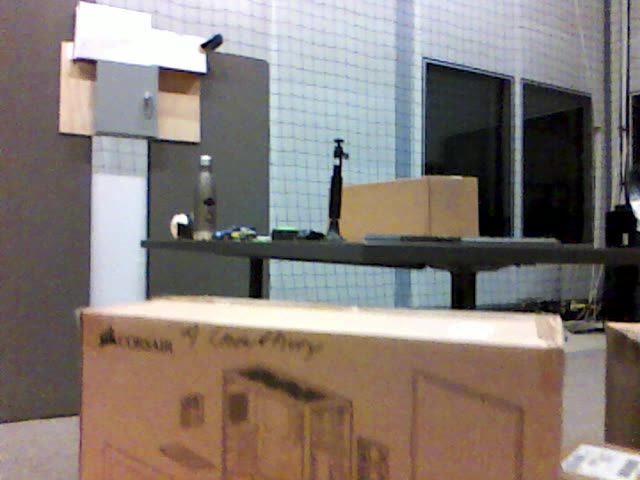box: (79, 295, 568, 480), (343, 176, 479, 240), (606, 322, 640, 444), (562, 438, 640, 478)
